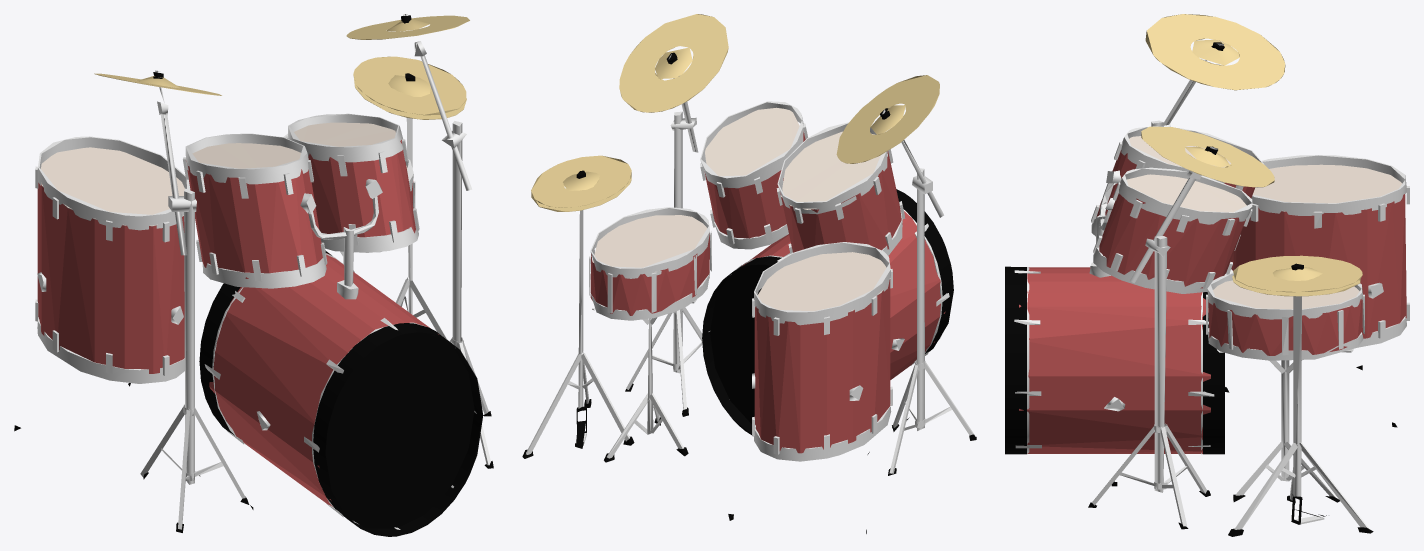
The model's file is sh-contrib-batterie.glb.
3 renders of one model, left to right at view 1: azimuth 30°, elevation 25°; view 2: azimuth 150°, elevation 25°; view 3: azimuth 270°, elevation 25°, orthographic. The views are drawn at different scales.
Visible parts, largest first — view 1: Grosse_caisse, Contour_metal_devant, Grosse_caisse_derriere, Peau_bas, Contour_devant, Cymbale, Attache; view 2: Grosse_caisse, Contour_metal_devant, Peau_bas, Cymbale, Grosse_caisse_derriere, Attache, Contour_devant; view 3: Grosse_caisse, Contour_metal_devant, Cymbale, Peau_bas, Contour_devant, Attache, Grosse_caisse_derriere.
Boxes of the visible parts, bbox=[...] form: Grosse_caisse: bbox=[37, 140, 438, 507]; Contour_metal_devant: bbox=[37, 14, 490, 529]; Grosse_caisse_derriere: bbox=[14, 334, 493, 532]; Peau_bas: bbox=[41, 122, 407, 225]; Contour_devant: bbox=[153, 15, 483, 536]; Cymbale: bbox=[94, 15, 469, 119]; Attache: bbox=[35, 136, 476, 529]; Grosse_caisse: bbox=[590, 131, 945, 453]; Contour_metal_devant: bbox=[578, 53, 975, 473]; Peau_bas: bbox=[592, 107, 890, 311]; Cymbale: bbox=[531, 14, 939, 211]; Grosse_caisse_derriere: bbox=[522, 265, 976, 533]; Attache: bbox=[526, 123, 952, 458]; Contour_devant: bbox=[576, 52, 953, 435]; Grosse_caisse: bbox=[1019, 150, 1406, 453]; Contour_metal_devant: bbox=[1027, 43, 1406, 526]; Cymbale: bbox=[1141, 14, 1362, 296]; Peau_bas: bbox=[1126, 136, 1402, 309]; Contour_devant: bbox=[1005, 42, 1303, 524]; Attache: bbox=[1014, 142, 1409, 529]; Grosse_caisse_derriere: bbox=[1088, 365, 1397, 536].
Size of the model in its own units: 0.9984 by 1 by 1.
